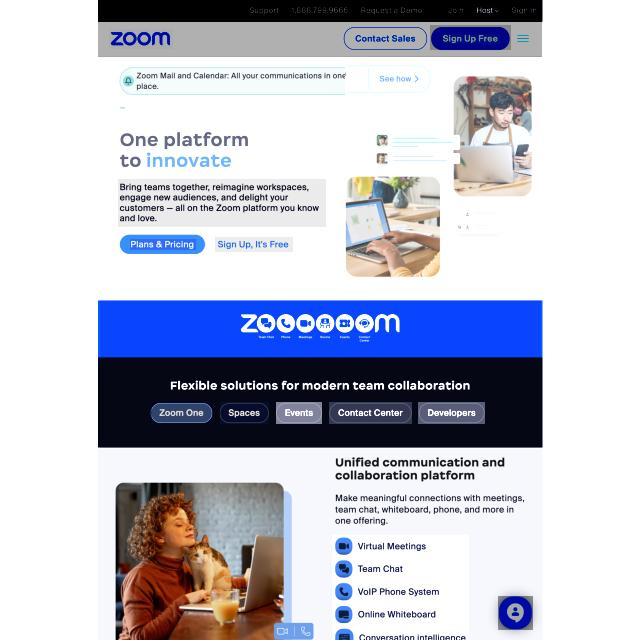CheckBox: (343, 26, 428, 51), (430, 25, 511, 50), (119, 234, 205, 256), (498, 596, 533, 630), (215, 237, 293, 252)
ImageView: (100, 299, 541, 449)
Input field: (118, 179, 326, 227)
QR code: (332, 535, 469, 640)
alert: (474, 4, 502, 16)
bag: (98, 0, 542, 57)
copy: (345, 58, 543, 300)
data feed: (354, 32, 416, 44), (130, 239, 196, 250), (443, 34, 500, 44)
date picker: (109, 29, 173, 49)
decoration: (98, 0, 542, 22), (515, 30, 532, 47)
heading: (116, 104, 180, 112)
illustration: (329, 402, 412, 424), (418, 402, 485, 424), (152, 402, 212, 423), (220, 402, 269, 424), (276, 402, 322, 424)
image: (118, 128, 253, 171)
